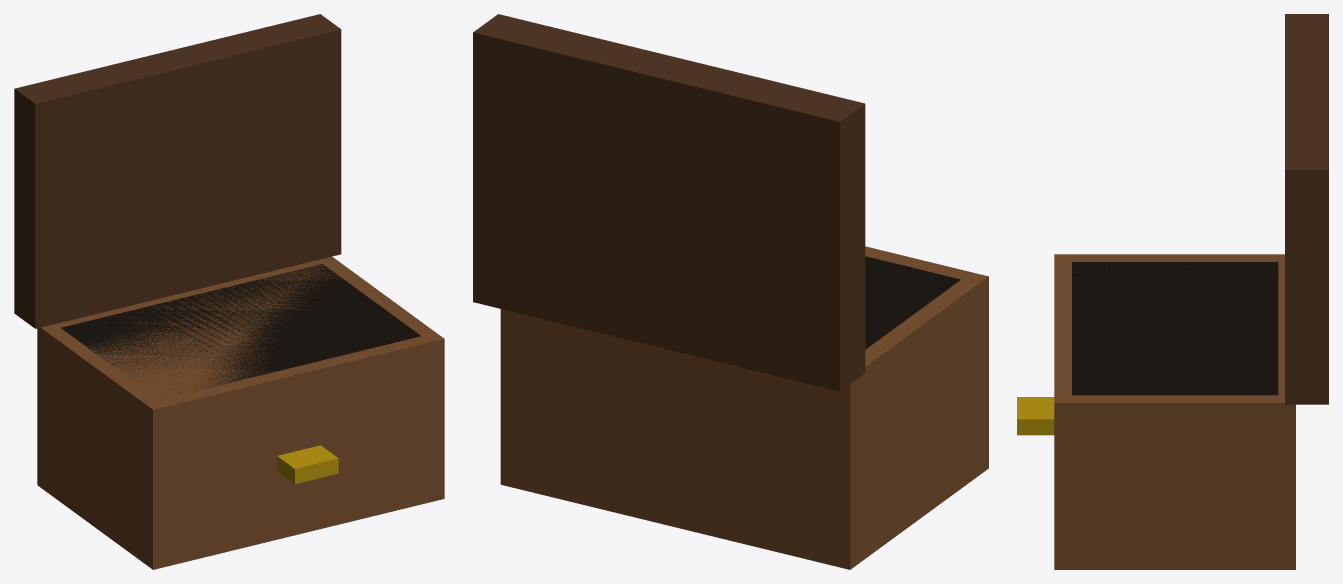
Rendered from chest-open.300da21d.glb.
The picture shows the model from 3 angles, left to right: view 1: azimuth 30°, elevation 25°; view 2: azimuth 150°, elevation 25°; view 3: azimuth 270°, elevation 25°; orthographic projection. The views are drawn at different scales.
Visible parts, largest first — view 1: body; view 2: body; view 3: body.
Part boxes in pixels (<box>): body: <box>14,14,444,569</box>; body: <box>473,14,988,569</box>; body: <box>1017,14,1328,569</box>.
Size of the model in its own units: 0.84 by 1.01 by 0.71.
